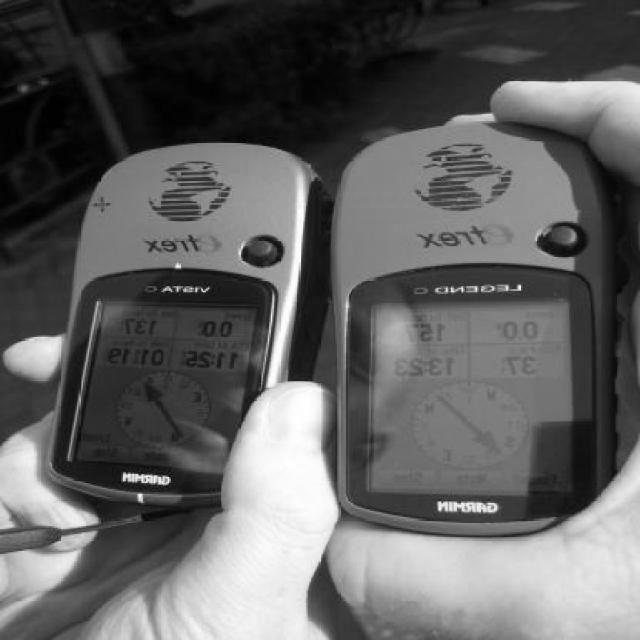fake: (338, 124, 640, 570), (25, 133, 327, 519)
